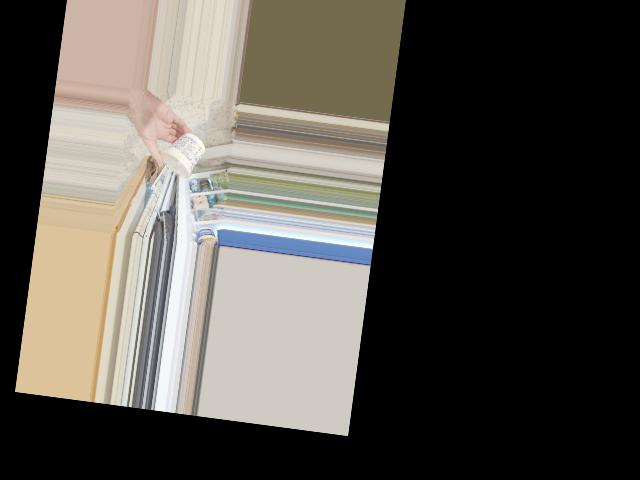cotage: (154, 129, 201, 173)
